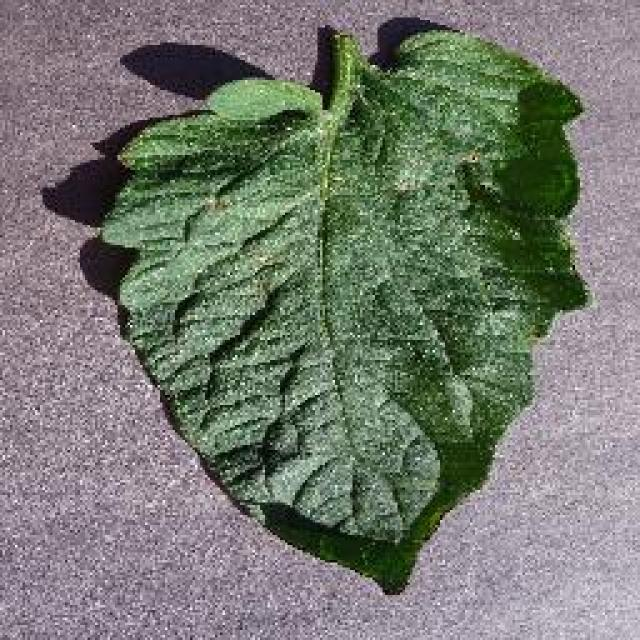Tomato___Target_Spot: (95, 22, 588, 590)
